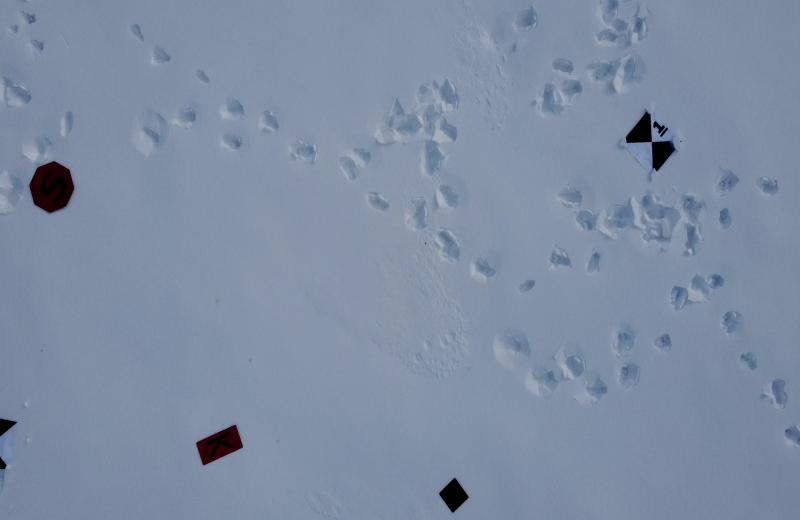Octagon: (29, 158, 76, 215)
Rectangle: (196, 423, 246, 466)
Square: (439, 474, 470, 514)
